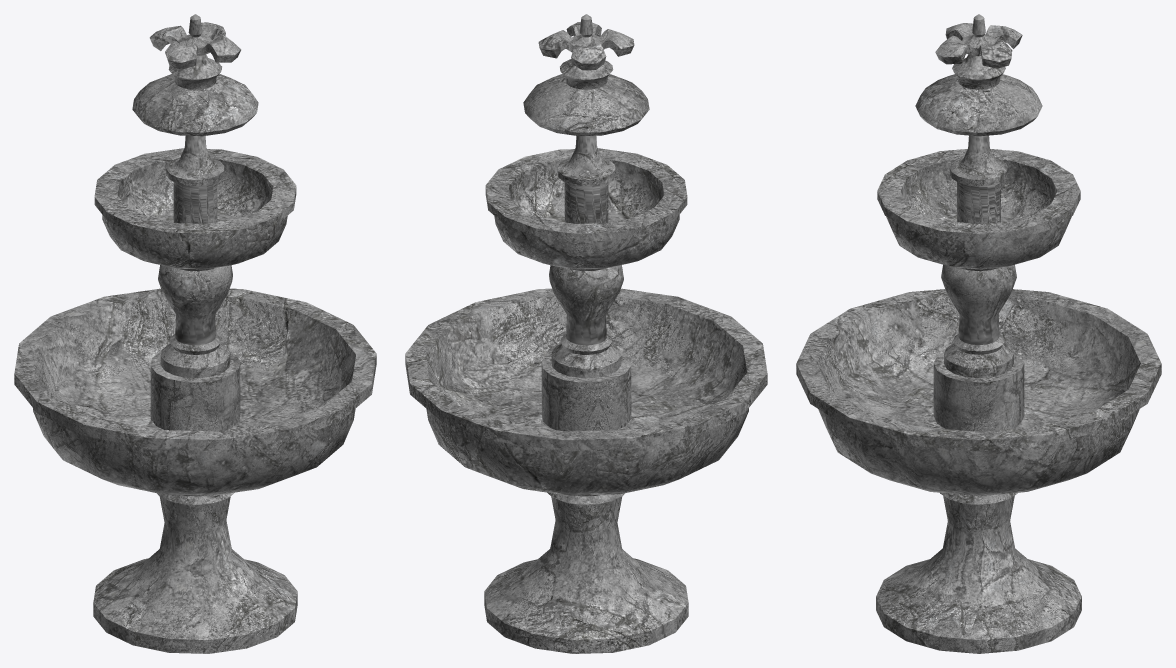
File: materials_3_fountain_2.fbx
The picture shows the model from 3 angles, left to right: view 1: azimuth 30°, elevation 25°; view 2: azimuth 150°, elevation 25°; view 3: azimuth 270°, elevation 25°; orthographic projection.
Visible parts, largest first — view 1: materials_3_fountain_2; view 2: materials_3_fountain_2; view 3: materials_3_fountain_2.
Part boxes in pixels (x1=…): materials_3_fountain_2: x1=14, y1=14, x2=376, y2=653; materials_3_fountain_2: x1=405, y1=14, x2=767, y2=653; materials_3_fountain_2: x1=796, y1=14, x2=1161, y2=653.
Bounding box in the file's own units: 118 × 213 × 118.
